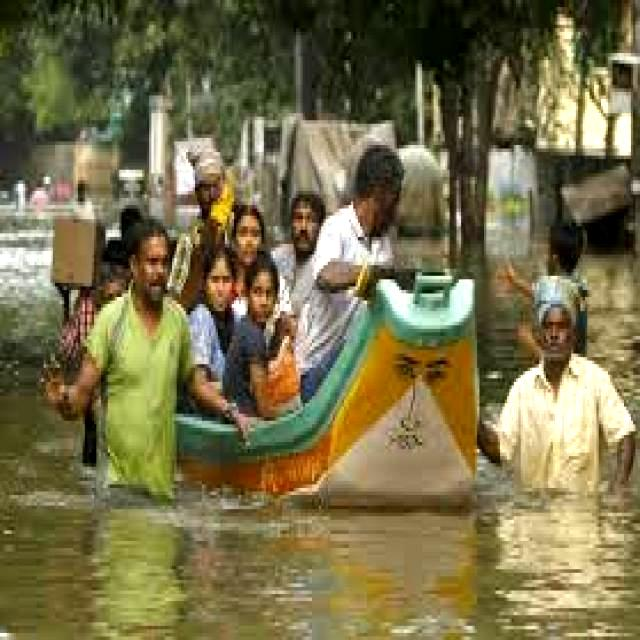civilian: (62, 218, 199, 501), (489, 267, 640, 499), (300, 141, 411, 389), (61, 247, 135, 478), (238, 252, 296, 437), (180, 246, 237, 421), (275, 187, 321, 318), (185, 156, 231, 266), (226, 195, 268, 298)
